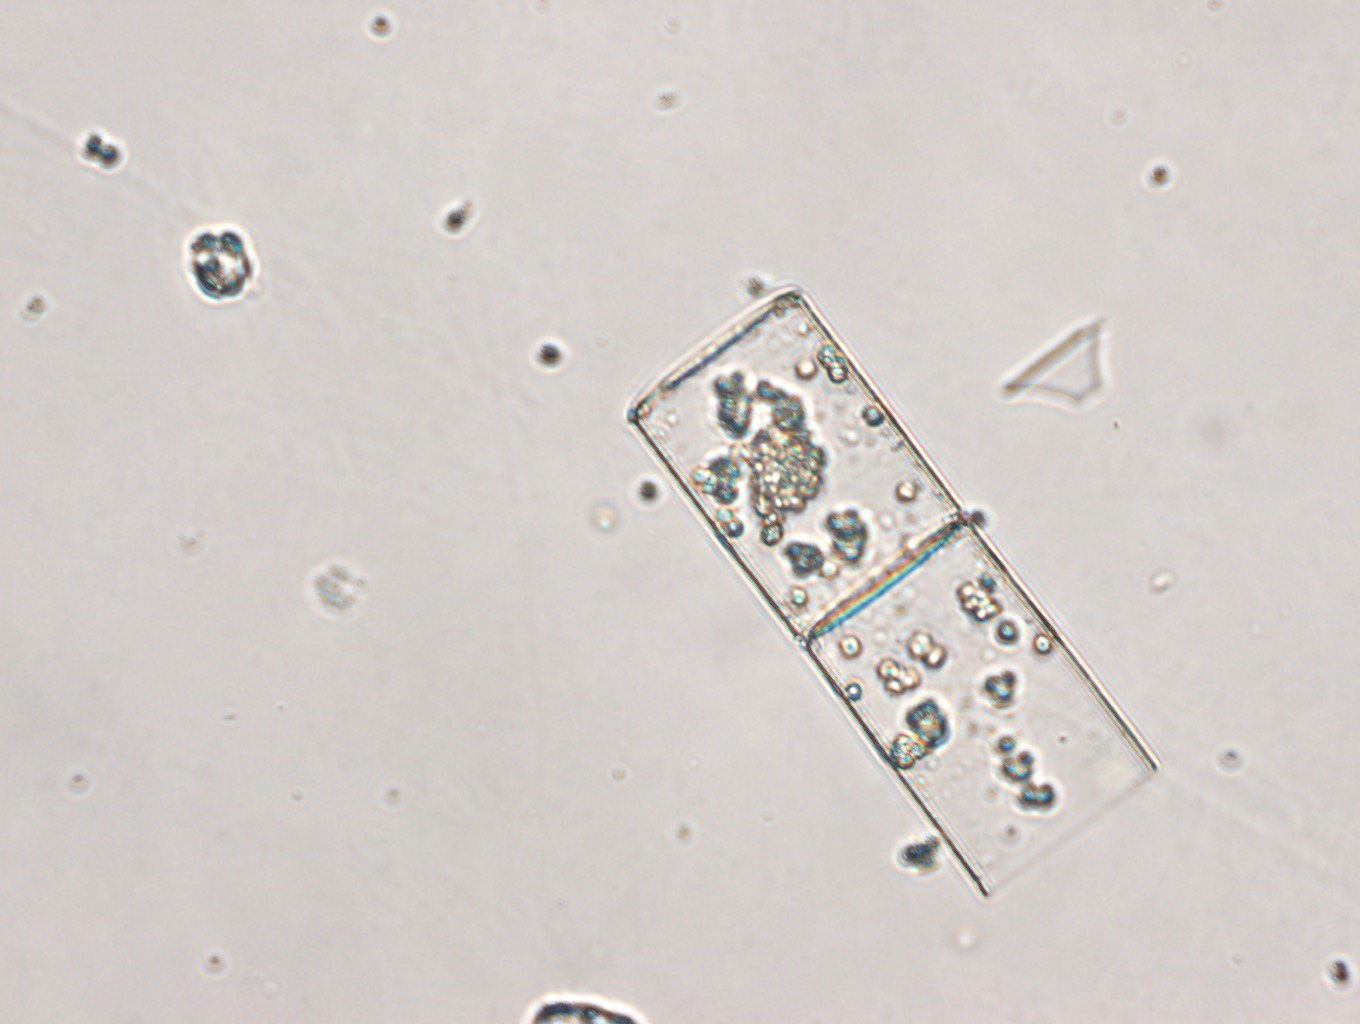guinardia flaccida: (619, 281, 1160, 899)
